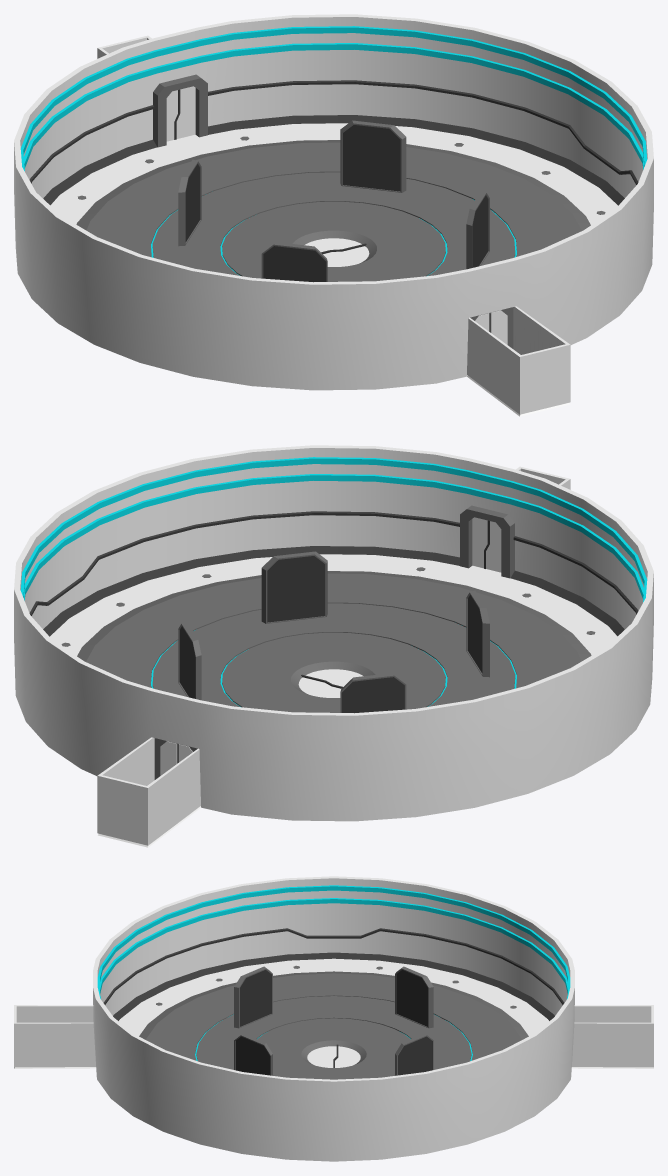
File: SciFiRoomCircular (3).fbx
3 renders of one model, top to bottom at view 1: azimuth 30°, elevation 25°; view 2: azimuth 150°, elevation 25°; view 3: azimuth 270°, elevation 25°, orthographic. The views are drawn at different scales.
Visible parts, largest first — view 1: Room1.001, Floor, NeonLights, Walls.015, Room1.019, Room1.005, Walls.014, Walls.016, Walls.002, Room1.020, Door2.004, Room1.004; view 2: Room1.001, Floor, NeonLights, Walls.002, Room1.022, Room1.008, Walls.016, Room1.014, Walls.014, Walls.015, Room1.021, Door1.005 (+3 smaller); view 3: Room1.001, Floor, NeonLights, Room1.020, Room1.021, Walls.014, Walls.016, Room1.019, Room1.022, Walls.015, Walls.002, Room1.004 (+1 smaller).
Boxes of the visible parts, x1,y1,x2,y2 form: Room1.001: (14, 14, 653, 390); Floor: (50, 123, 617, 281); NeonLights: (20, 26, 647, 275); Walls.015: (340, 120, 406, 192); Room1.019: (467, 317, 520, 414); Room1.005: (520, 344, 570, 414); Walls.014: (261, 242, 327, 282); Walls.016: (178, 159, 201, 246); Walls.002: (466, 192, 489, 269); Room1.020: (513, 306, 569, 354); Door2.004: (176, 86, 195, 138); Room1.004: (323, 246, 369, 266); Room1.001: (14, 445, 653, 821); Floor: (50, 554, 617, 712); NeonLights: (20, 457, 647, 706); Walls.002: (261, 551, 327, 623); Room1.022: (147, 748, 200, 845); Room1.008: (97, 775, 147, 845); Walls.016: (340, 673, 406, 713); Room1.014: (460, 505, 514, 578); Walls.014: (466, 590, 489, 677); Walls.015: (178, 623, 201, 700); Room1.021: (98, 737, 154, 785); Door1.005: (472, 517, 487, 568); Room1.001: (93, 876, 574, 1161); Floor: (119, 958, 548, 1079); NeonLights: (97, 885, 570, 1060); Room1.020: (14, 1022, 95, 1067); Room1.021: (572, 1022, 653, 1067); Walls.014: (234, 966, 272, 1028); Walls.016: (395, 966, 433, 1028); Room1.019: (14, 1005, 93, 1022); Room1.022: (574, 1005, 653, 1022); Walls.015: (395, 1034, 433, 1075); Walls.002: (234, 1034, 272, 1075); Room1.004: (307, 1046, 336, 1067).
Size of the model in its own units: 3783 by 1155 by 4984.
Materials: 5 (5 with a texture image).
